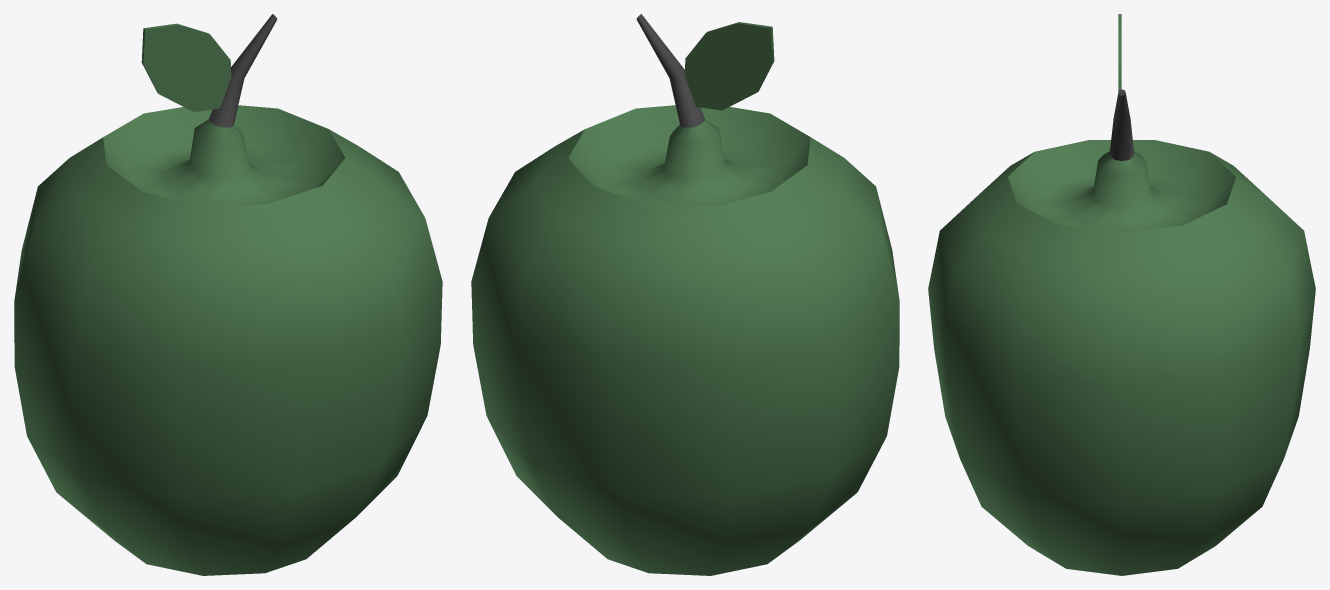
The model's file is Apple_1.fbx.
The picture shows the model from 3 angles, left to right: view 1: azimuth 30°, elevation 25°; view 2: azimuth 150°, elevation 25°; view 3: azimuth 270°, elevation 25°; orthographic projection. The views are drawn at different scales.
Parts seen in each view (by area): view 1: Apple_1; view 2: Apple_1; view 3: Apple_1.
Boxes of the visible parts, bbox=[...] form: Apple_1: bbox=[14, 14, 442, 575]; Apple_1: bbox=[471, 14, 899, 575]; Apple_1: bbox=[928, 14, 1315, 575].
Size of the model in its own units: 0.0948 by 0.127 by 0.0927.
